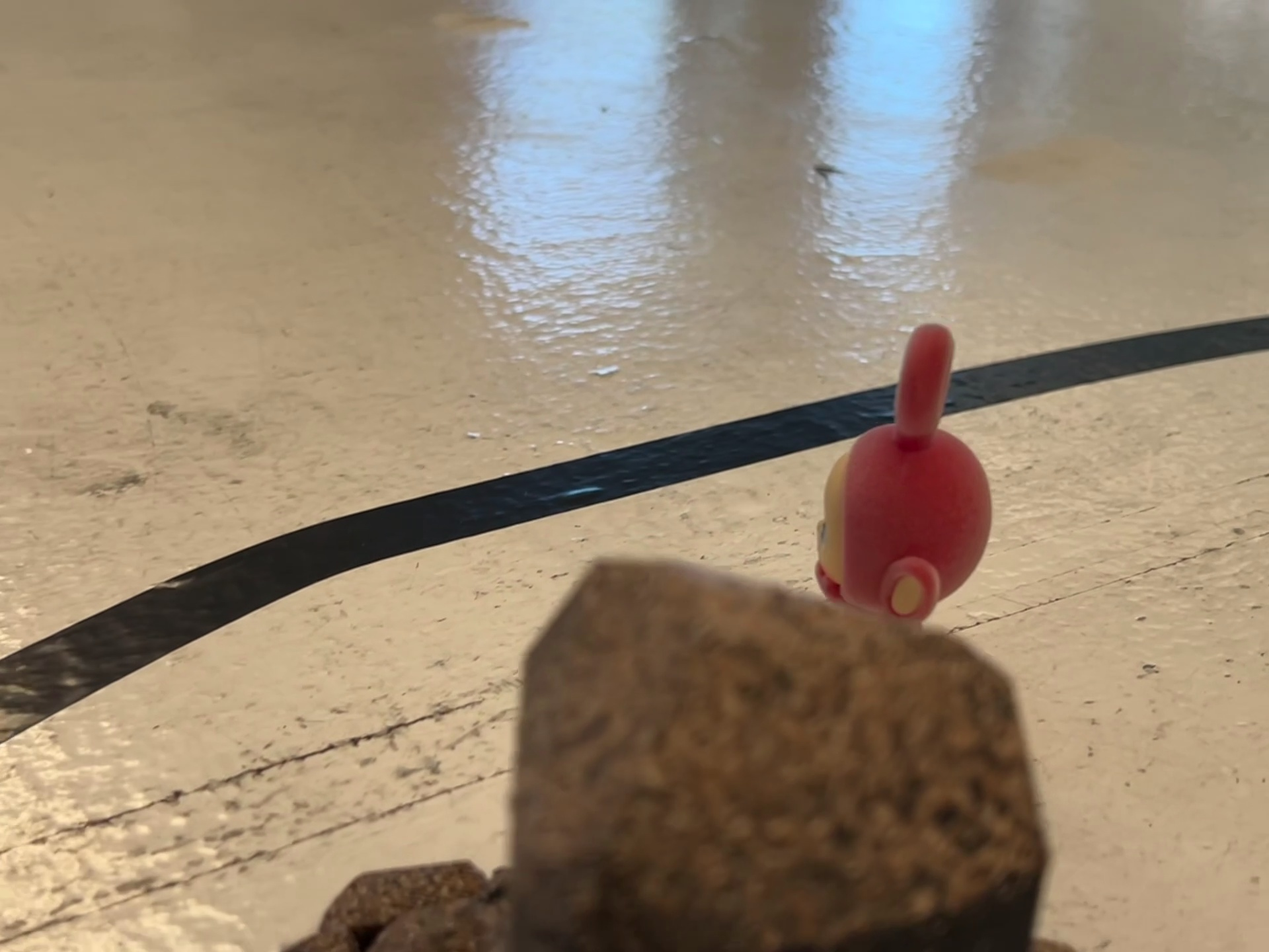teletubby: (815, 323, 991, 622)
